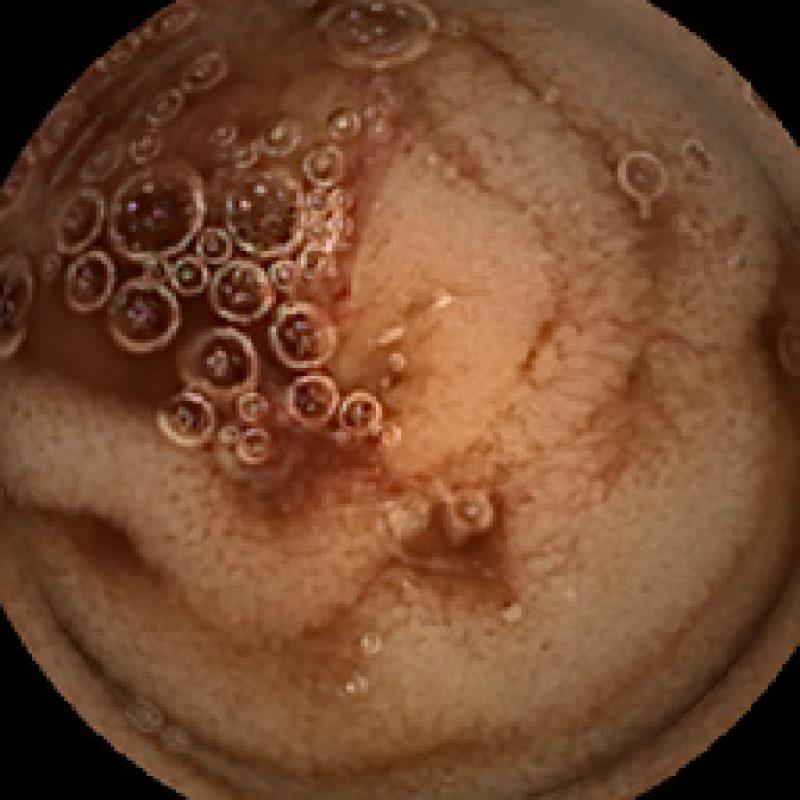bleeding: (132, 75, 375, 479)
